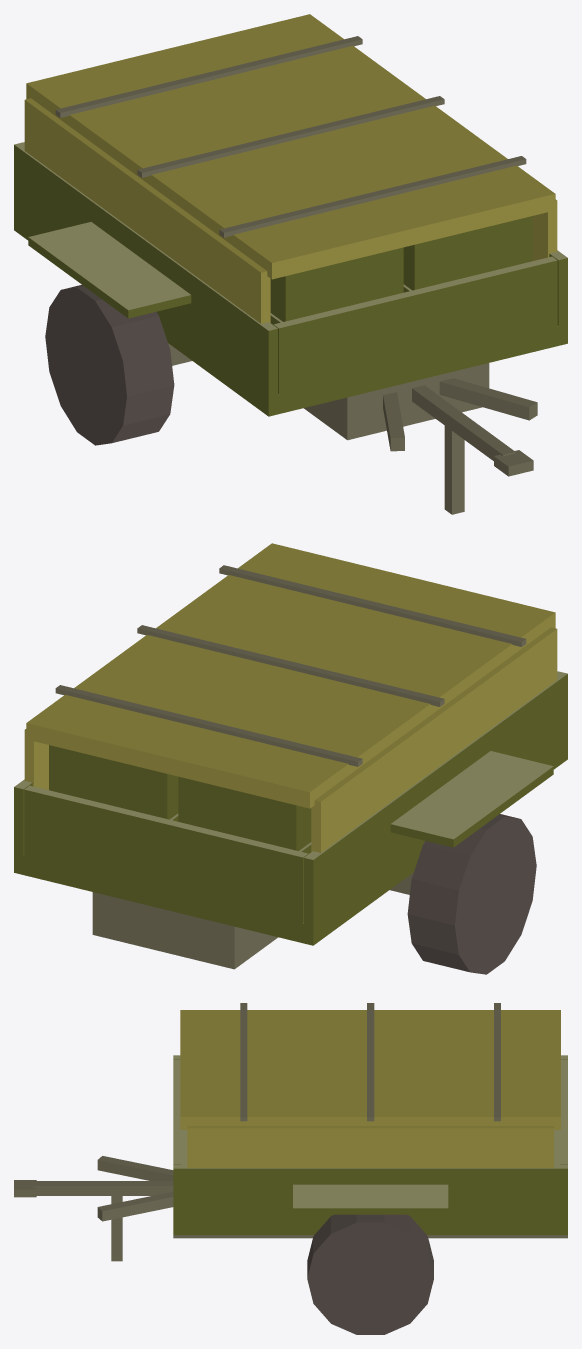
File: SM_RemolqueMunicion_v3_Tapado_LOD0.fbx
3 views of the same model, one above another, from view 1: azimuth 30°, elevation 25°; view 2: azimuth 150°, elevation 25°; view 3: azimuth 270°, elevation 25° (orthographic). The views are drawn at different scales.
Visible parts, largest first — view 1: SM_remolque_municion_v3_LOD0; view 2: SM_remolque_municion_v3_LOD0; view 3: SM_remolque_municion_v3_LOD0.
Boxes of the visible parts, bbox=[...] form: SM_remolque_municion_v3_LOD0: bbox=[14, 14, 567, 514]; SM_remolque_municion_v3_LOD0: bbox=[14, 543, 567, 974]; SM_remolque_municion_v3_LOD0: bbox=[14, 1003, 567, 1334].
Bounding box in the file's own units: 2.7 × 1.55 × 3.93.
